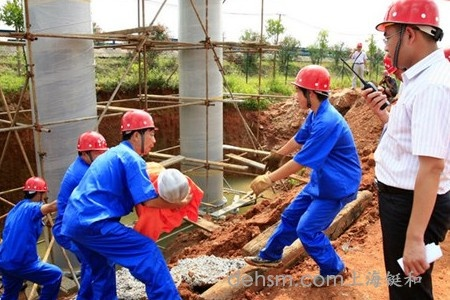red: (380, 1, 438, 64), (120, 107, 156, 157), (294, 63, 329, 111), (77, 128, 107, 165), (21, 175, 49, 205)
